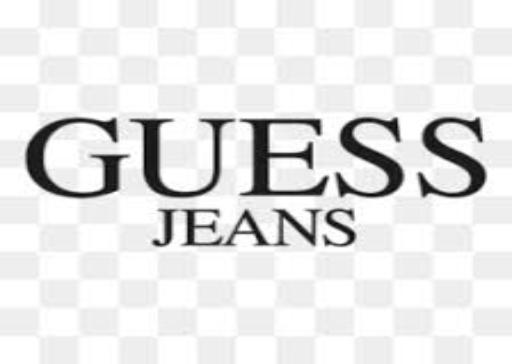GUESS: (22, 113, 484, 199)
